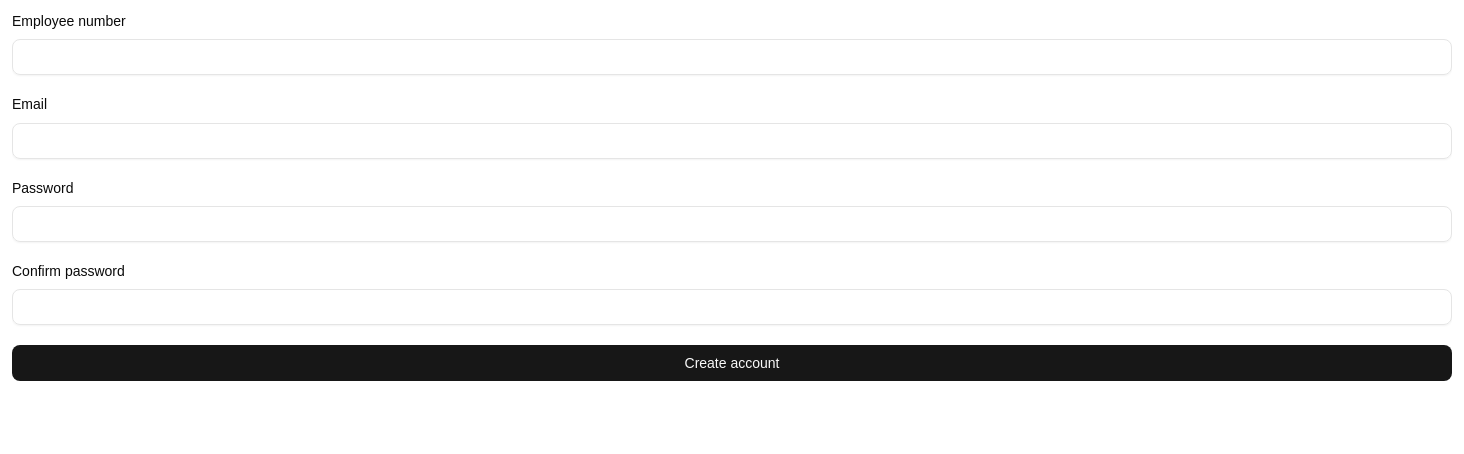
it: RegistrationForm › renders a 400 with multiple simultaneously-invalid fields, matching the backend's actual PascalCase FluentValidation property names
Type "EMP001" into the field labelled "Employee number". click: (732,57)
box: [12,39,1452,75]
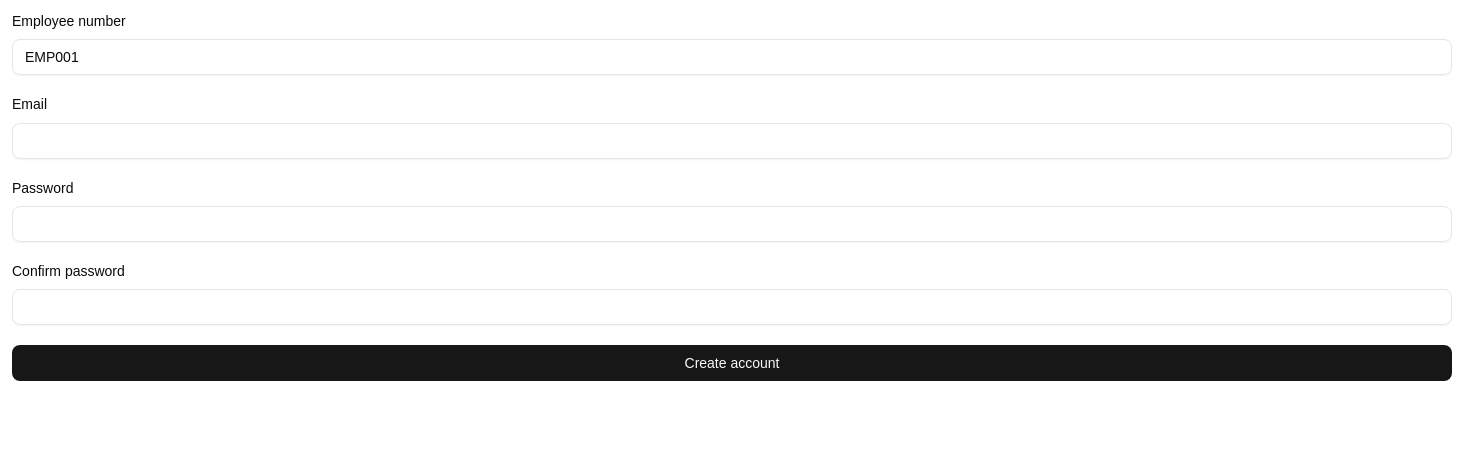
Type "a@b.com" into the field labelled "Email". click: (732,140)
box: [12,122,1452,158]
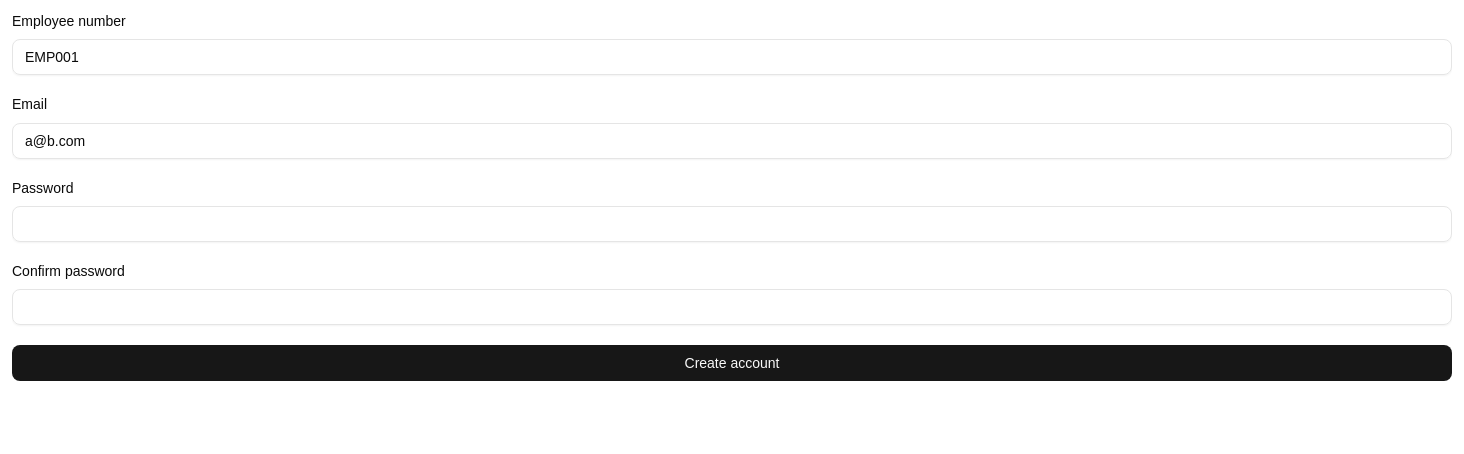
Type "password1" into the password field labelled "Password". click: (732,224)
box: [12,206,1452,242]
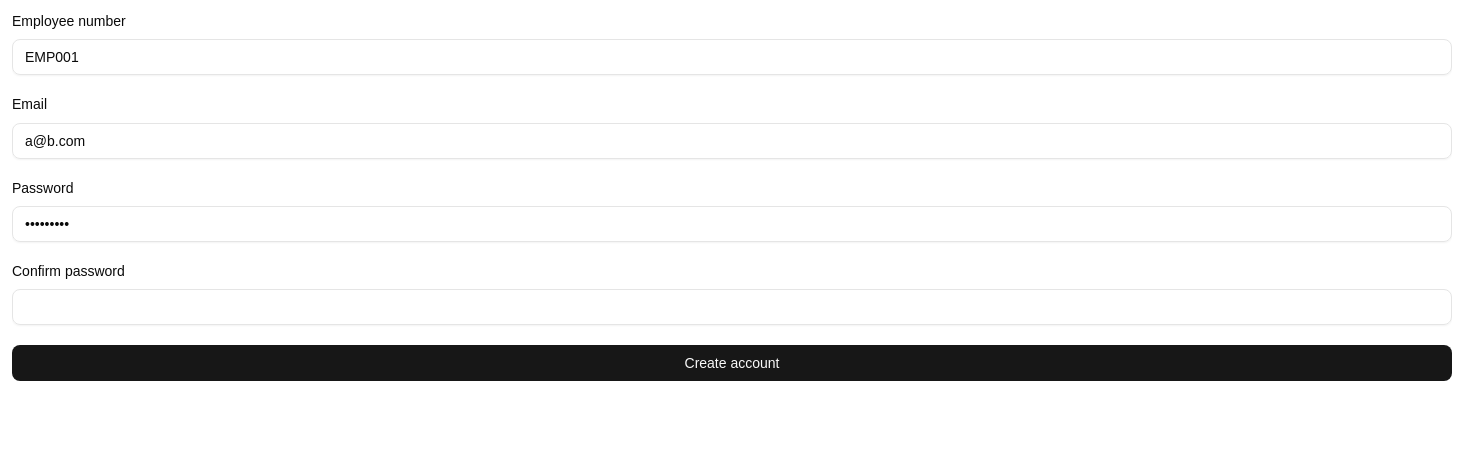
Type "password1" into the password field labelled "Confirm password". click: (732,307)
box: [12,289,1452,325]
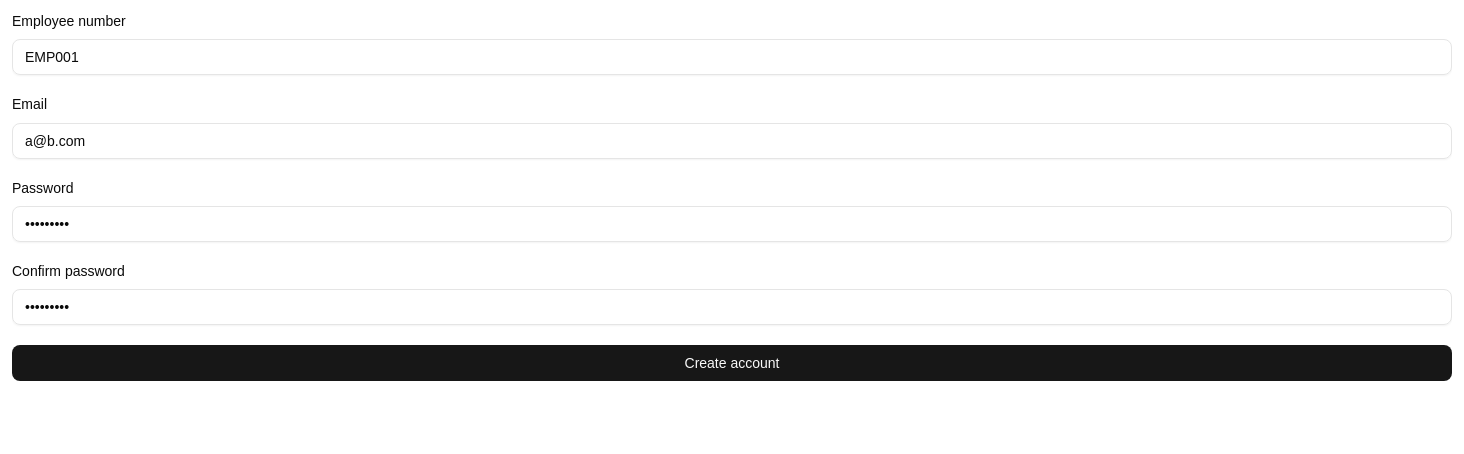
Click the button "Create account". click: (732,363)
box: [12,345,1452,381]
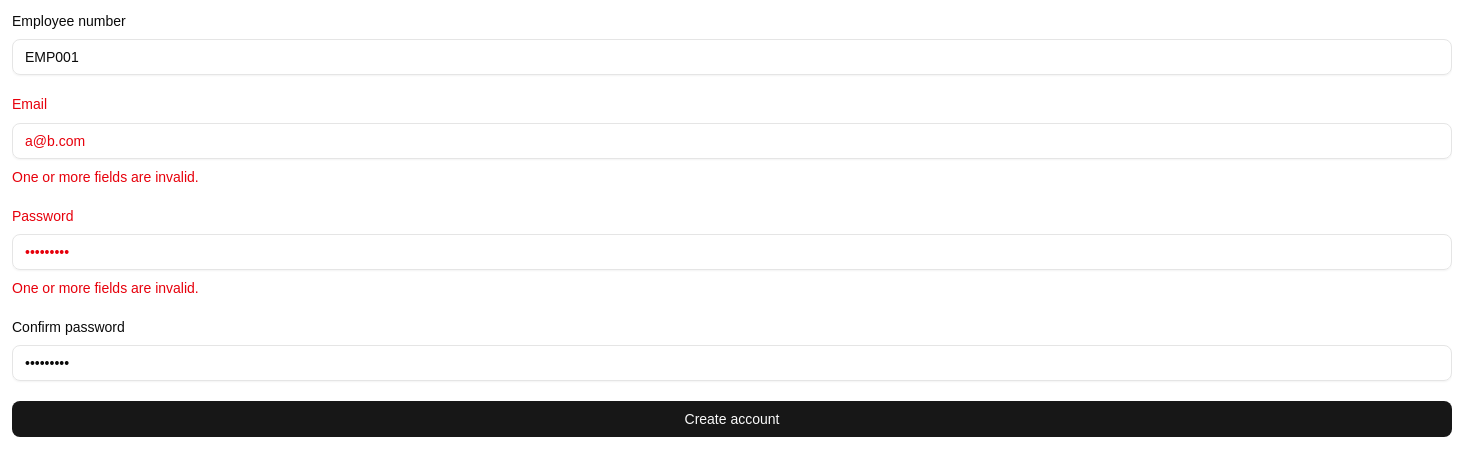
Now the text "One or more fields are invalid." is shown 2 times, box [12,168,199,184]; [12,280,199,296]
